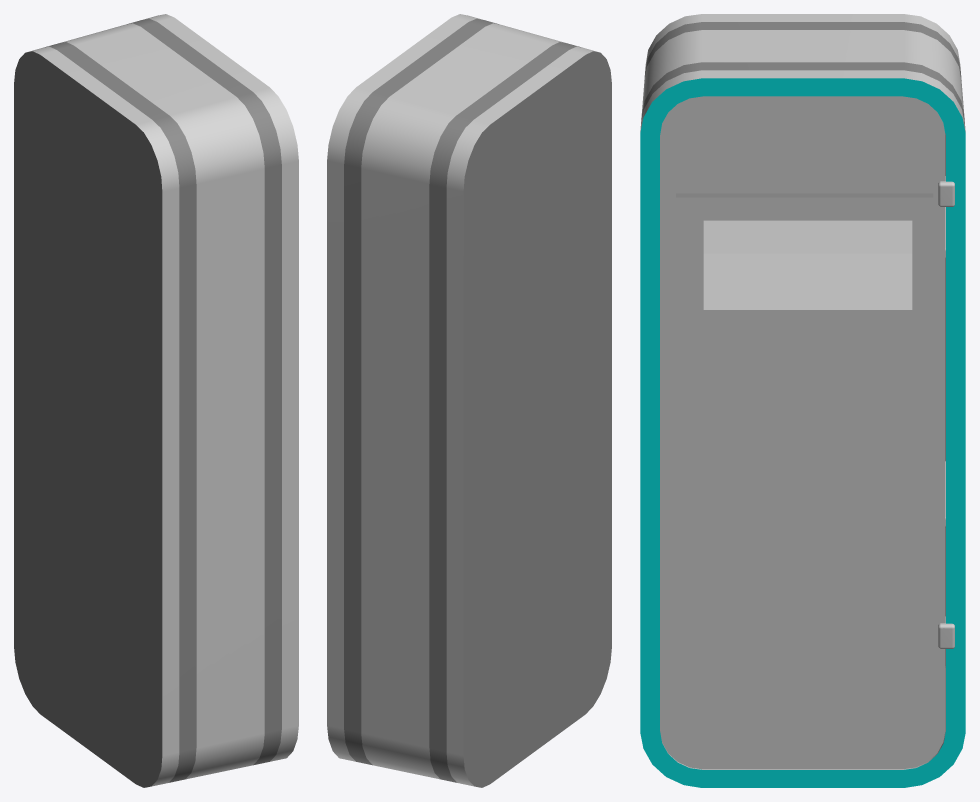
Rendered from locker.fbx.
3 renders of one model, left to right at view 1: azimuth 30°, elevation 25°; view 2: azimuth 150°, elevation 25°; view 3: azimuth 270°, elevation 25°, orthographic. The views are drawn at different scales.
Visible parts, largest first — view 1: locker_base; view 2: locker_base; view 3: door1, locker_base.
Part boxes in pixels (box(x1,y1,x2,y2)): locker_base: box(14, 14, 298, 787); locker_base: box(327, 14, 611, 787); door1: box(660, 96, 945, 769); locker_base: box(640, 14, 965, 787).
Size of the model in its own units: 0.5025 by 2.07 by 0.8602.
